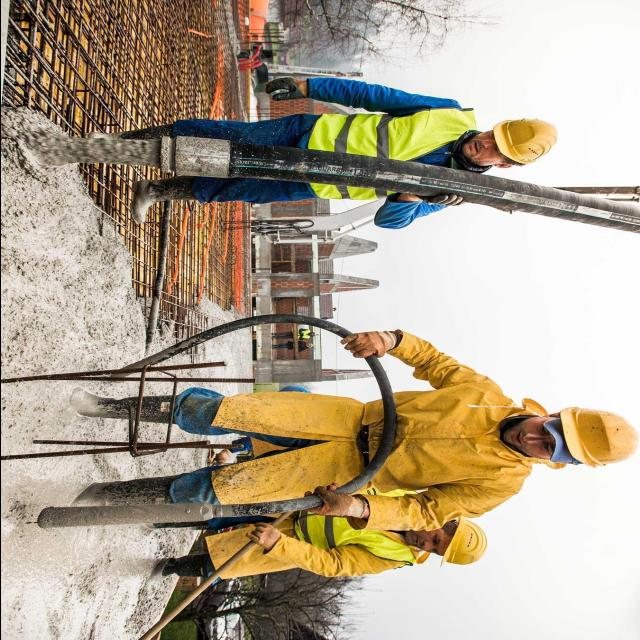helmet: (560, 396, 640, 484), (488, 113, 560, 167), (440, 517, 492, 578)
jacket: (299, 98, 483, 210), (304, 488, 422, 580)
